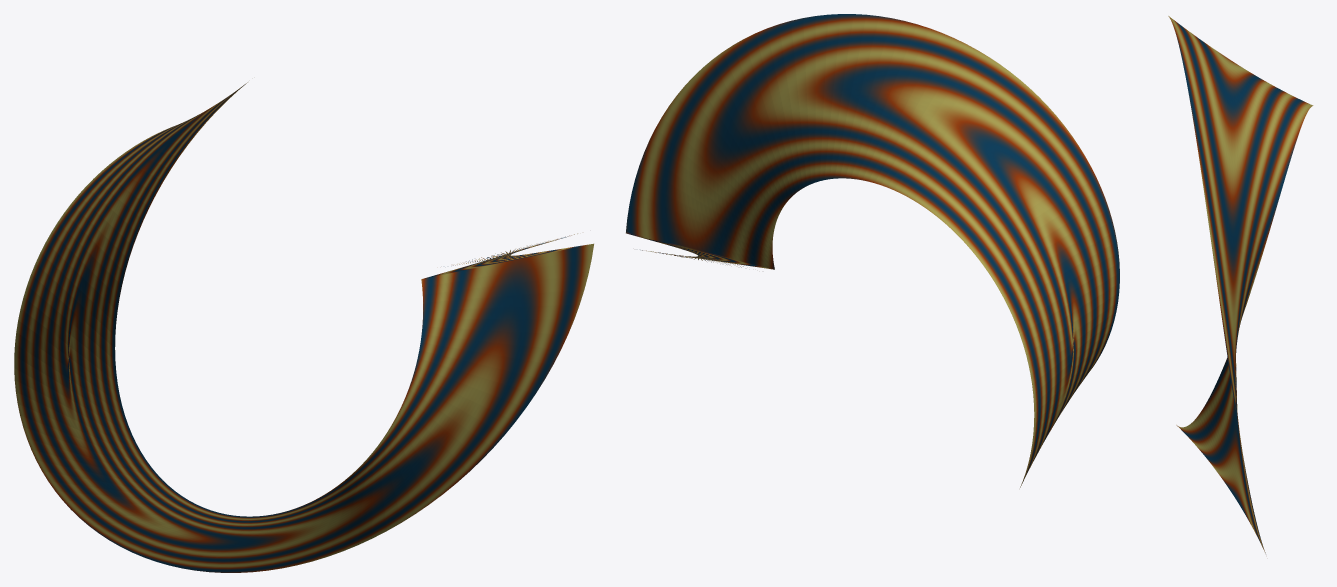
The model's file is mobius-sunset-c1.glb.
The picture shows the model from 3 angles, left to right: view 1: azimuth 30°, elevation 25°; view 2: azimuth 150°, elevation 25°; view 3: azimuth 270°, elevation 25°; orthographic projection. The views are drawn at different scales.
Visible parts, largest first — view 1: world; view 2: world; view 3: world.
Part boxes in pixels (x1,y1,x2,y2): world: (14,82,593,572); world: (626,14,1119,487); world: (1168,16,1313,553).
Bounding box in the file's own units: 2.42 × 2.58 × 0.8.
Materials: 1 (1 with a texture image).
